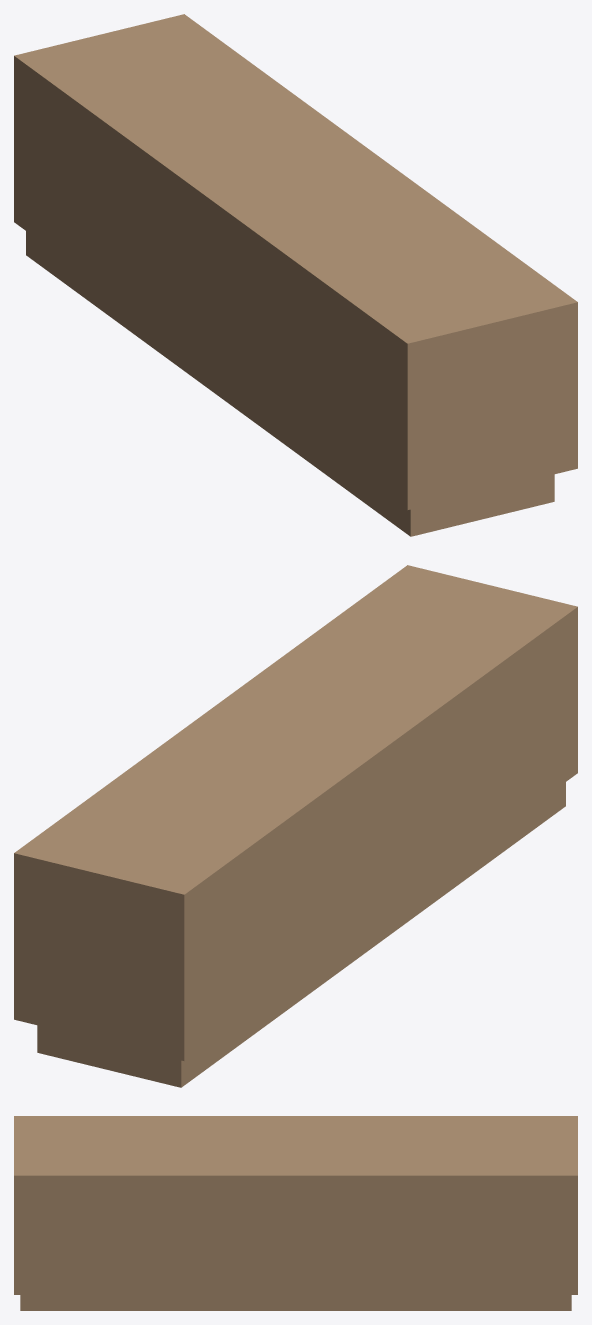
Rendered from media-console-1800.glb.
The picture shows the model from 3 angles, top to bottom: view 1: azimuth 30°, elevation 25°; view 2: azimuth 150°, elevation 25°; view 3: azimuth 270°, elevation 25°; orthographic projection. The views are drawn at different scales.
Visible parts, largest first — view 1: media-console-1800; view 2: media-console-1800; view 3: media-console-1800.
Part boxes in pixels (x1,y1,x2,y2): media-console-1800: [14, 14, 577, 536]; media-console-1800: [14, 565, 577, 1087]; media-console-1800: [14, 1116, 577, 1310].
Bounding box in the file's own units: 0.45 × 0.5 × 1.8.
